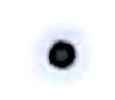cancer: (31, 22, 94, 86)
